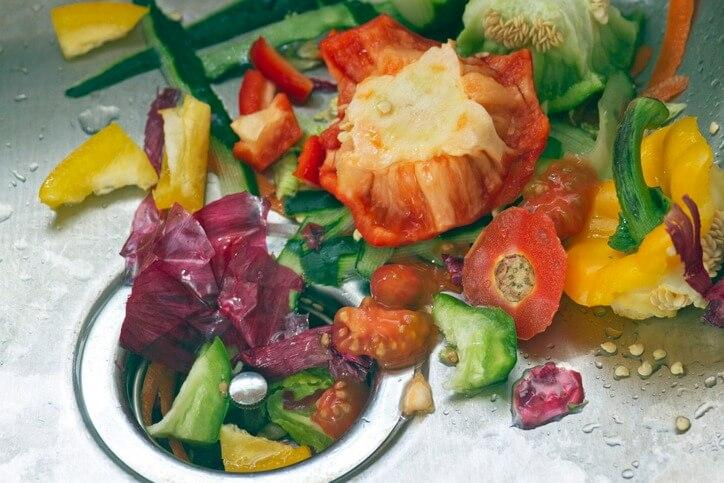organic: (294, 12, 549, 249), (554, 94, 724, 321), (444, 0, 643, 116), (465, 205, 570, 341), (142, 335, 236, 443), (39, 126, 159, 209), (433, 289, 520, 392), (329, 301, 438, 373), (225, 89, 307, 177), (153, 92, 211, 215), (39, 3, 153, 60), (512, 360, 586, 433), (219, 421, 317, 475), (649, 0, 694, 104)
